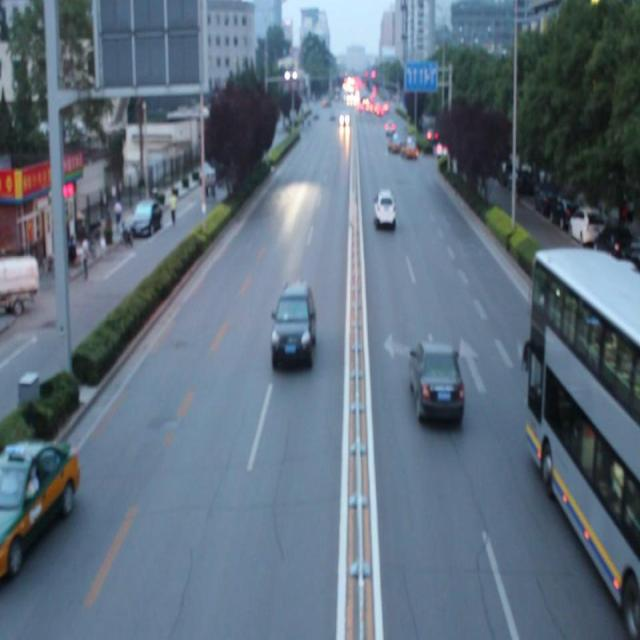car: (1, 434, 82, 582), (408, 337, 465, 425), (270, 280, 317, 370), (372, 188, 397, 230)
van: (524, 240, 640, 627)
